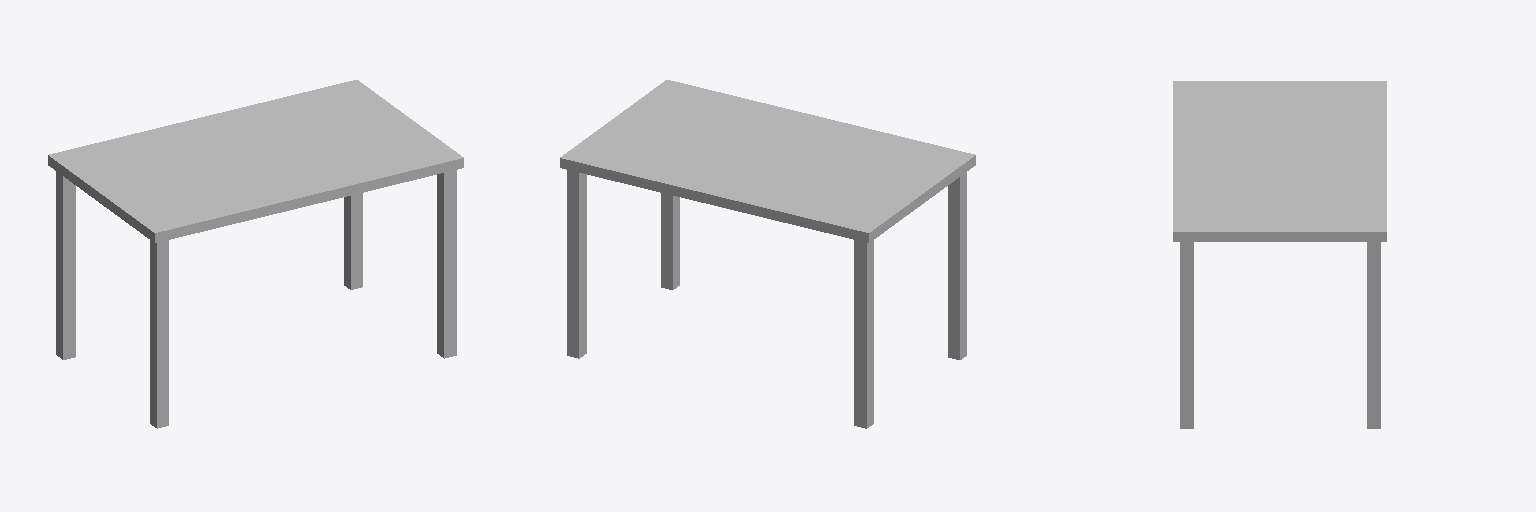
The model's file is Test Table.obj.
3 views of the same model, side by side, from view 1: azimuth 30°, elevation 25°; view 2: azimuth 150°, elevation 25°; view 3: azimuth 270°, elevation 25° (orthographic).
Parts seen in each view (by area): view 1: Cube_Cube.001, Cube.004_Cube.005, Cube.002_Cube.003, Cube.001_Cube.002, Cube.003_Cube.004; view 2: Cube_Cube.001, Cube.002_Cube.003, Cube.003_Cube.004, Cube.001_Cube.002, Cube.004_Cube.005; view 3: Cube_Cube.001, Cube.004_Cube.005, Cube.003_Cube.004.
Boxes of the visible parts, x1,y1,x2,y2 form: Cube_Cube.001: [48, 80, 463, 242]; Cube.004_Cube.005: [437, 170, 456, 358]; Cube.002_Cube.003: [56, 171, 75, 359]; Cube.001_Cube.002: [150, 240, 168, 428]; Cube.003_Cube.004: [344, 193, 362, 289]; Cube_Cube.001: [560, 80, 975, 242]; Cube.002_Cube.003: [854, 240, 873, 428]; Cube.003_Cube.004: [567, 170, 586, 358]; Cube.001_Cube.002: [948, 172, 966, 359]; Cube.004_Cube.005: [661, 193, 679, 289]; Cube_Cube.001: [1173, 81, 1386, 241]; Cube.004_Cube.005: [1180, 242, 1193, 428]; Cube.003_Cube.004: [1367, 242, 1380, 428].
Size of the model in its own units: 10 by 6.15 by 6.